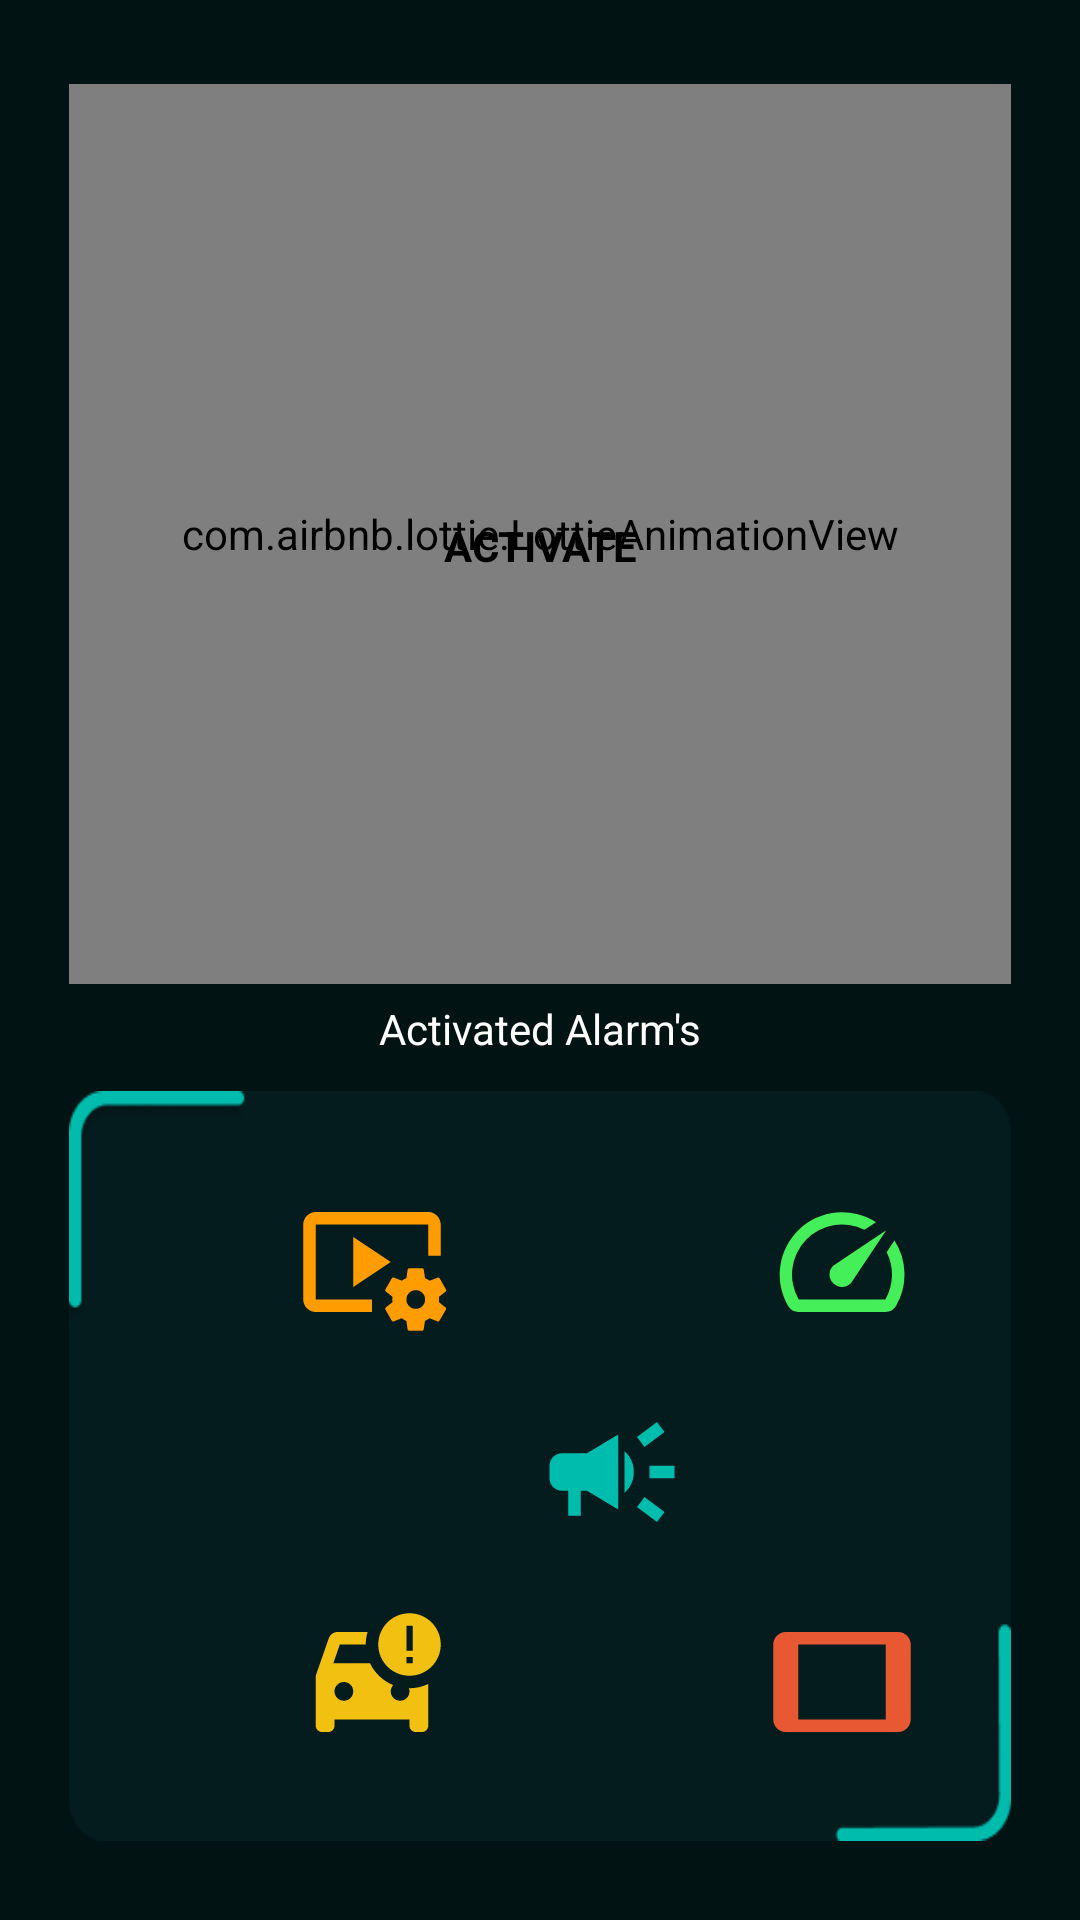

Named icons in this screenshot (1080×1920) and their bounding boxes, [x1, y1, x2, y2]:
campaign: [549, 1422, 675, 1522]
car crash: [315, 1613, 441, 1732]
video system: [303, 1212, 447, 1331]
